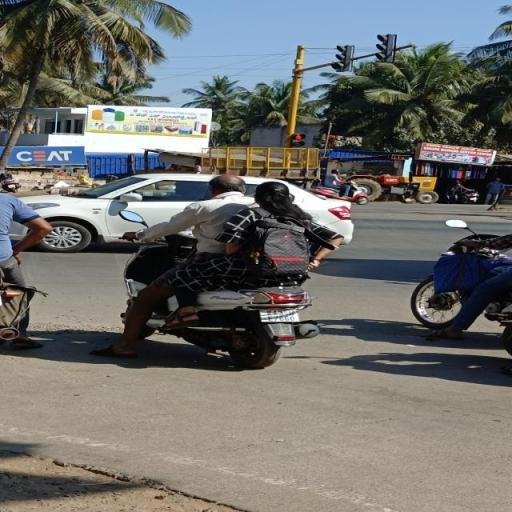bike: (107, 172, 347, 370)
numberplate: (260, 310, 300, 322)
withouthelmet: (258, 182, 290, 204), (210, 176, 245, 195)
